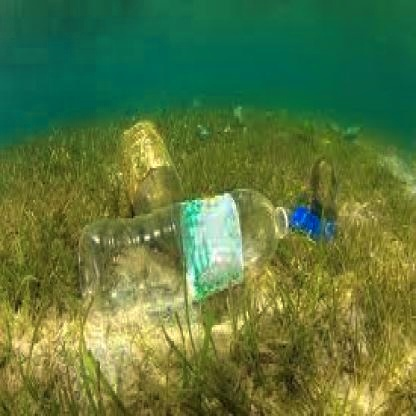pbottle: (73, 186, 295, 318), (106, 114, 190, 234)
